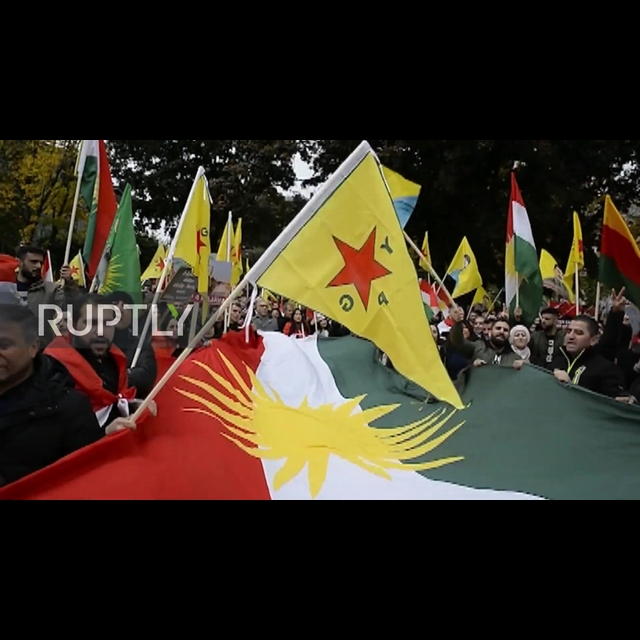IBKY: (189, 352, 493, 499)
